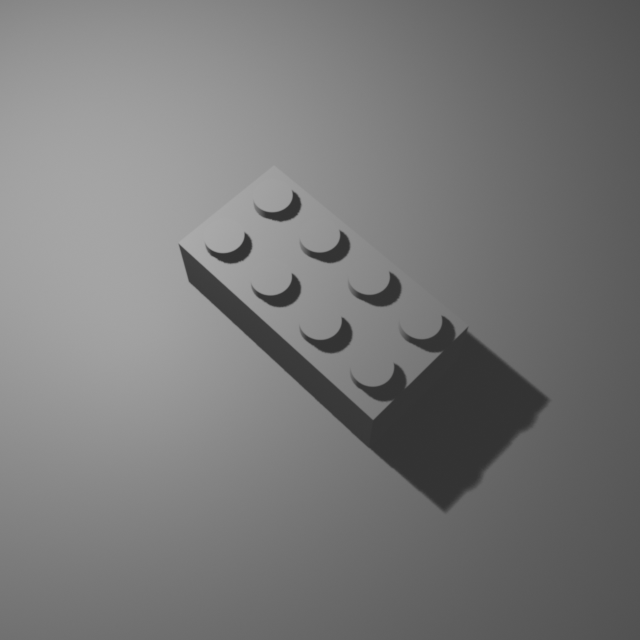lego_2x4: (176, 157, 471, 448)
